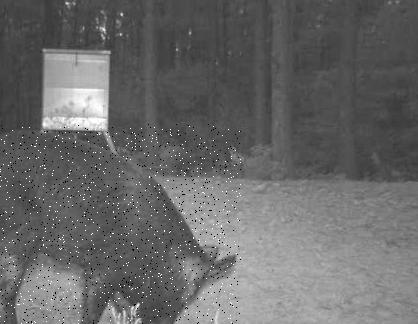Hog: (0, 124, 241, 324)
